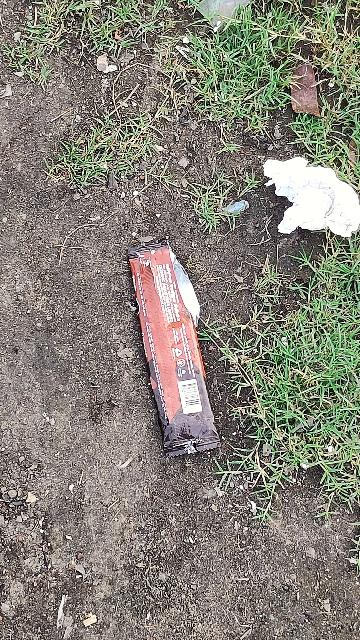packet: (119, 239, 231, 470)
